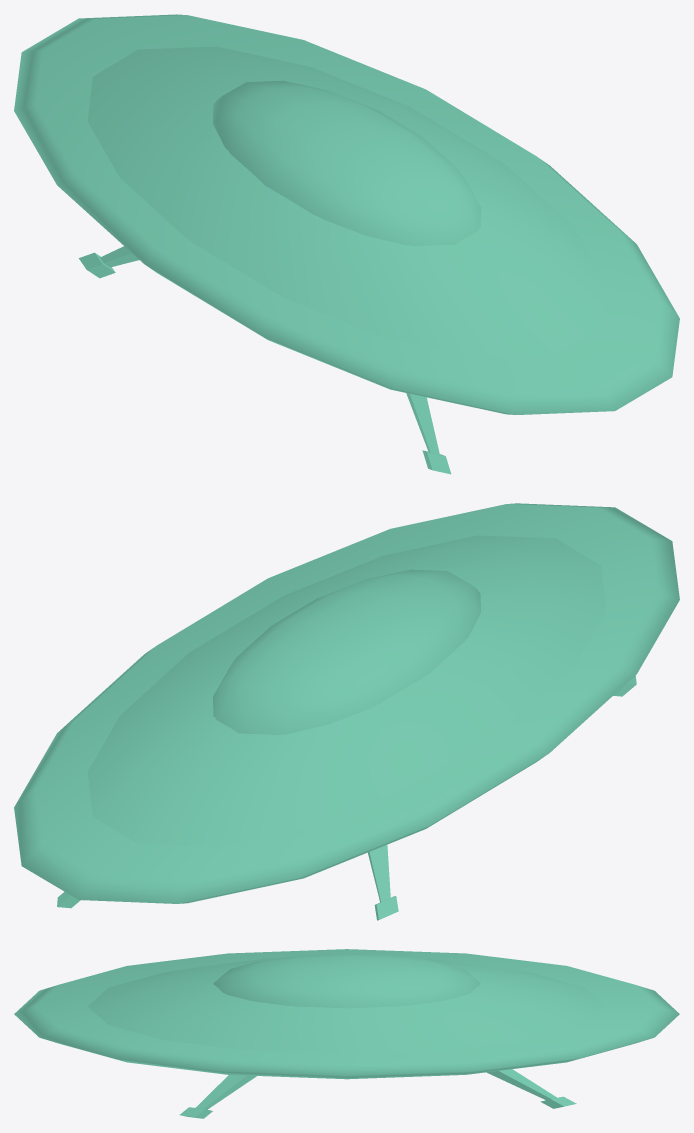
File: RaceBoatRaw.glb
3 renders of one model, top to bottom at view 1: azimuth 30°, elevation 25°; view 2: azimuth 150°, elevation 25°; view 3: azimuth 270°, elevation 25°, orthographic. The views are drawn at different scales.
Parts seen in each view (by area): view 1: RawMesh.001; view 2: RawMesh.001; view 3: RawMesh.001.
Part boxes in pixels (<box>): RawMesh.001: <box>14,14,679,474</box>; RawMesh.001: <box>14,503,679,920</box>; RawMesh.001: <box>14,949,679,1118</box>.
Size of what is drawn, in the model's own units: 2.3 by 0.9673 by 5.28.
1 material, 1 textured.
